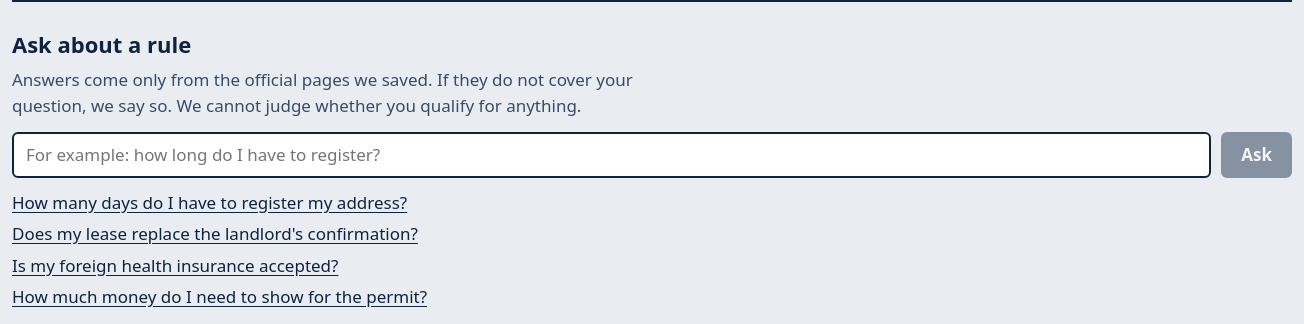
it: Ask form › clicking a suggestion fills the input and does not submit
This screenshot has width=1304, height=324.
Click the button "How many days do I have to register my address?" at (210, 202), box [12, 190, 407, 215]
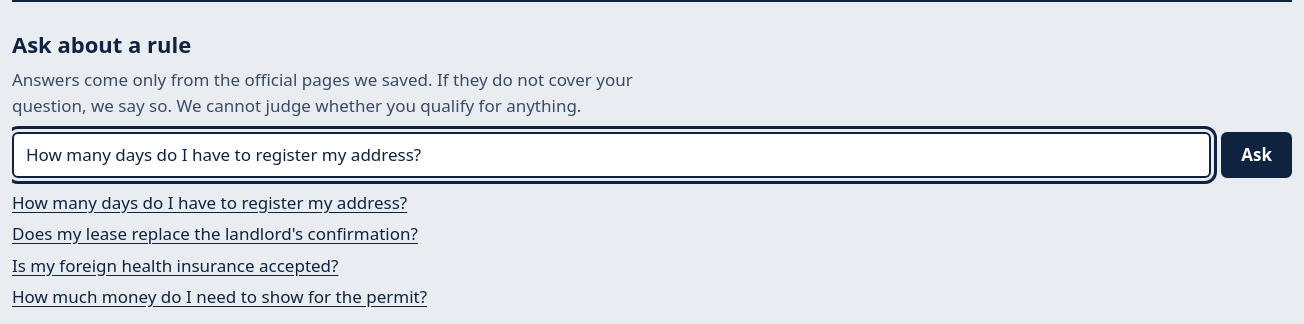
Expected: the field named "Your question" holds "How many days do I have to register my address?", [12, 132, 1211, 178]
